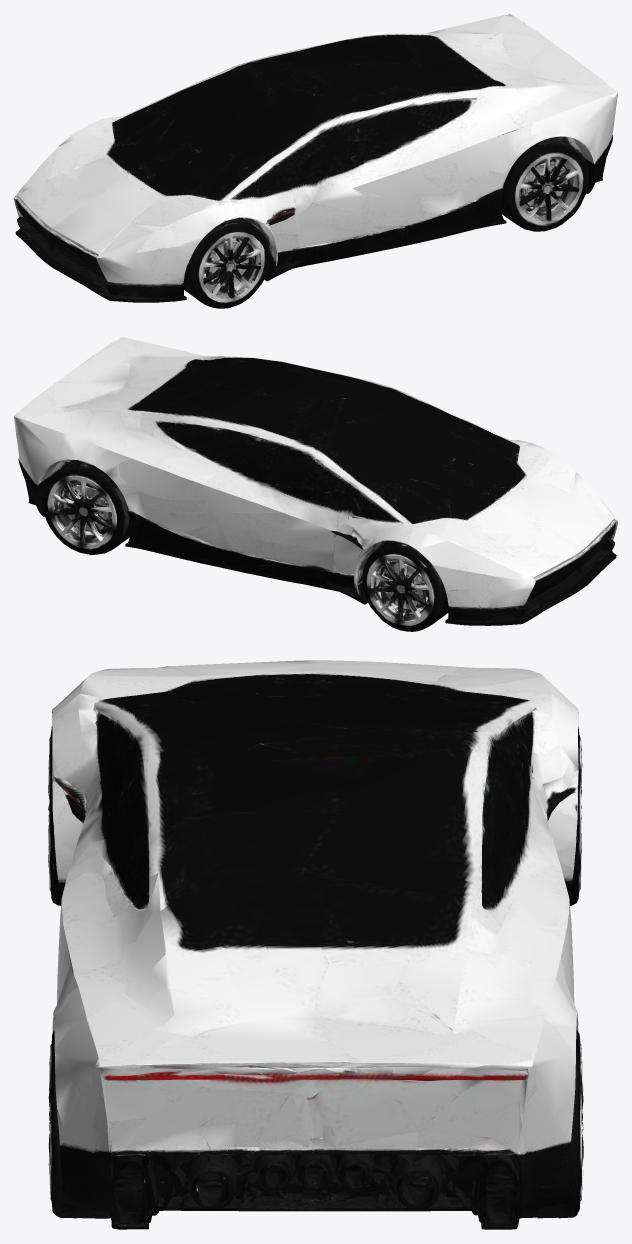
Rendered from roadster.glb.
3 renders of one model, top to bottom at view 1: azimuth 30°, elevation 25°; view 2: azimuth 150°, elevation 25°; view 3: azimuth 270°, elevation 25°, orthographic. The views are drawn at different scales.
Parts seen in each view (by area): view 1: Mesh_0; view 2: Mesh_0; view 3: Mesh_0.
Part boxes in pixels (left/top/right/bottom): Mesh_0: left=14, top=14, right=617, bottom=308; Mesh_0: left=14, top=337, right=617, bottom=631; Mesh_0: left=48, top=660, right=583, bottom=1229.
Bounding box in the file's own units: 1.9 × 0.5121 × 0.8521.
Materials: 1 (1 with a texture image).
